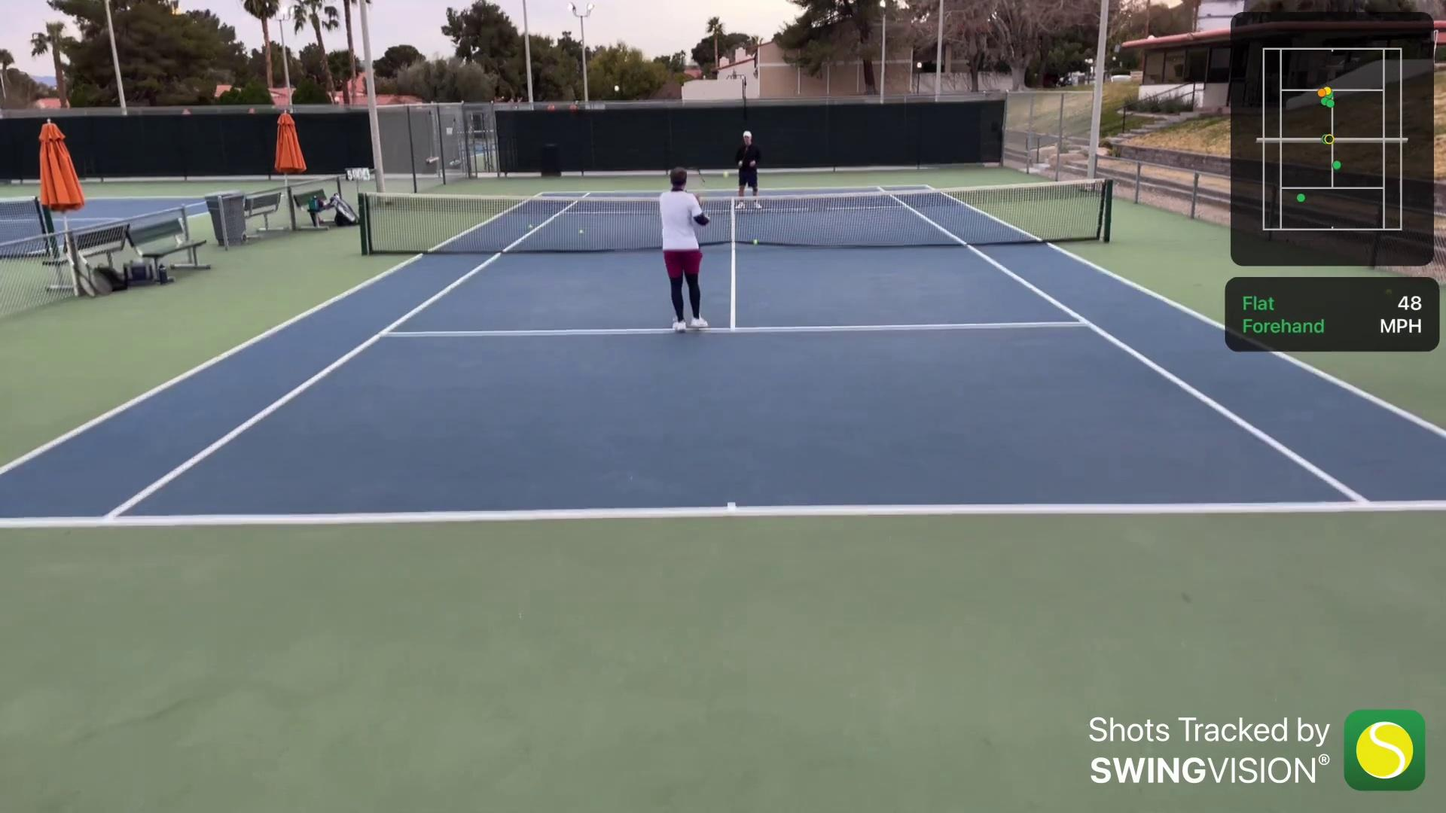ball: (525, 222, 536, 231), (721, 171, 730, 178), (751, 239, 758, 246), (577, 228, 584, 234)
